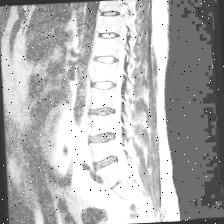disc: (97, 4, 130, 22), (88, 76, 120, 94), (90, 51, 120, 68), (95, 28, 124, 43)
hdisc: (85, 102, 119, 122), (86, 129, 119, 148), (90, 153, 122, 172)
